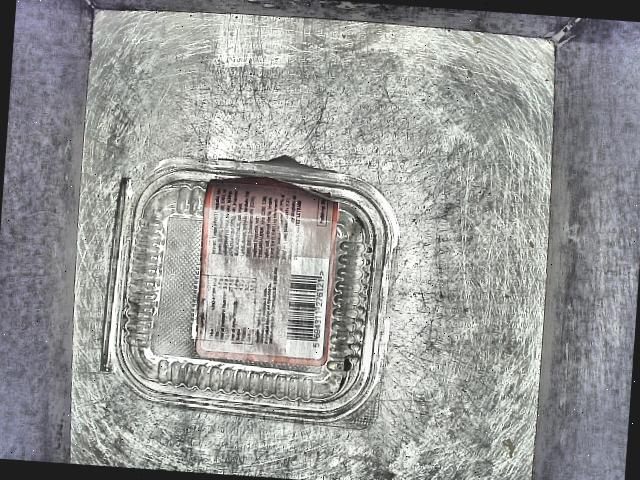Plastic: (76, 134, 408, 432)
